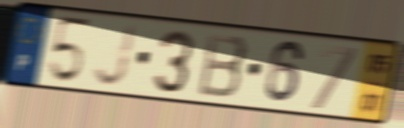3: (151, 27, 196, 95)
5: (44, 15, 96, 86)
6: (263, 38, 305, 108)
7: (310, 42, 359, 111)
B: (195, 30, 250, 102)
J: (91, 21, 140, 90)
